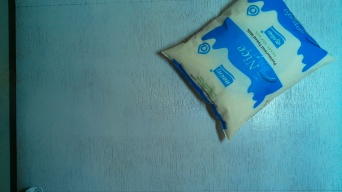m: (155, 1, 335, 138)
